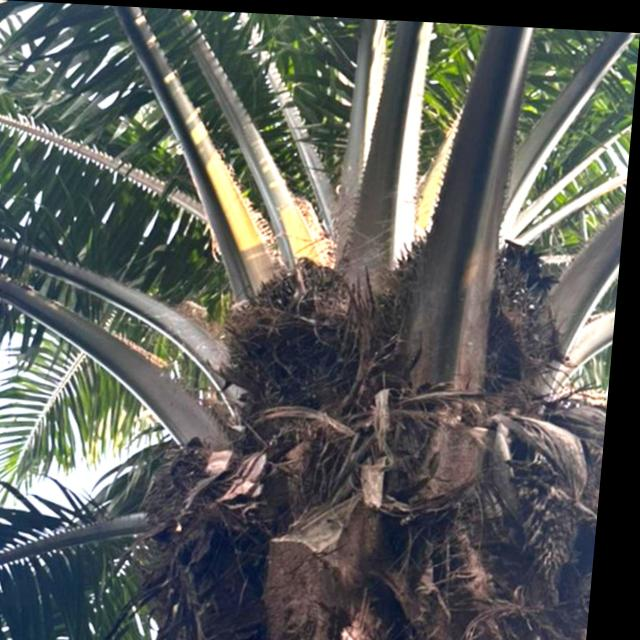unripe: (211, 243, 395, 414)
